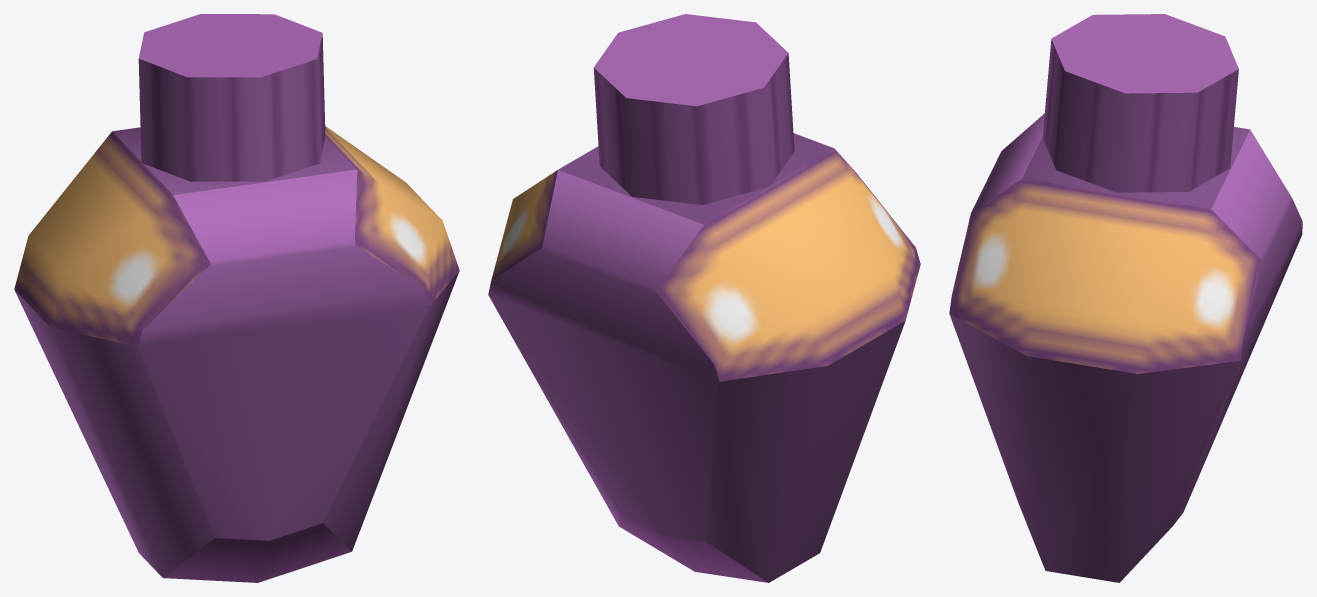
File: back_acc_10.FBX
3 views of the same model, side by side, from view 1: azimuth 30°, elevation 25°; view 2: azimuth 150°, elevation 25°; view 3: azimuth 270°, elevation 25° (orthographic).
Visible parts, largest first — view 1: back_acc_10; view 2: back_acc_10; view 3: back_acc_10.
Part boxes in pixels (<box>): back_acc_10: <box>14,14,459,582</box>; back_acc_10: <box>488,14,920,582</box>; back_acc_10: <box>949,14,1302,582</box>.
Size of the model in its own units: 13.36 by 17.1 by 10.68.
